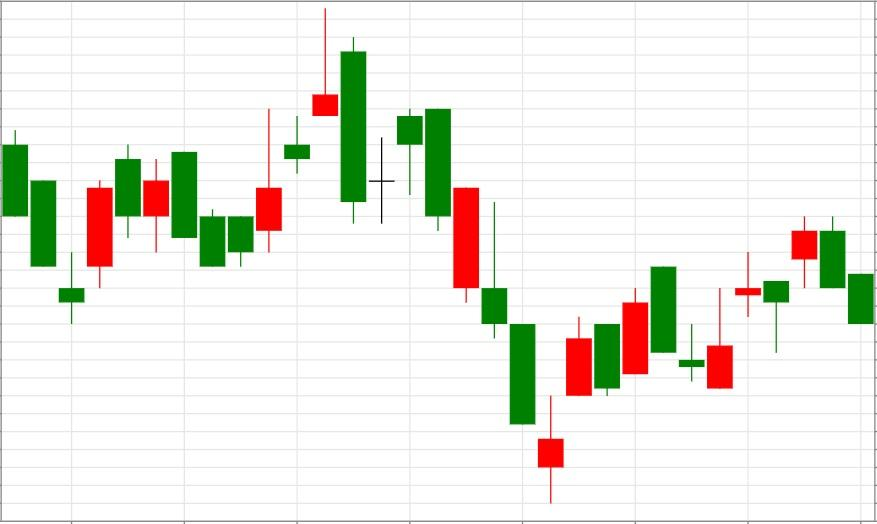bearish_engulfing_fall: (706, 216, 848, 389)
shooting_star_fall: (199, 7, 339, 266)
